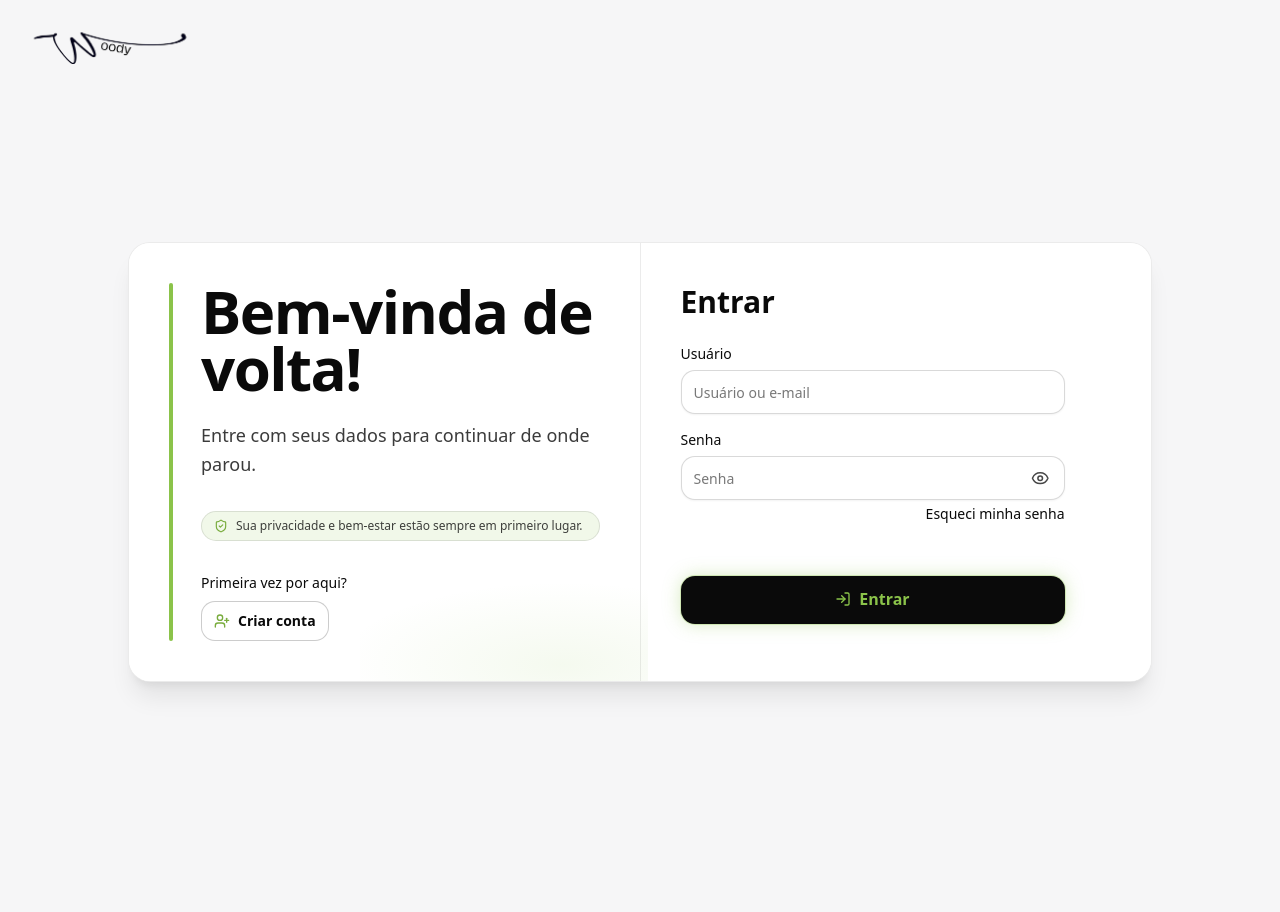
it: LoginPage › ACCOUNT_BANNED mostra aviso persistente sem redirecionar
The width and height of the screenshot is (1280, 912).
In the field labelled "Usuário": (872,392) [680,370,1064,414], type "banned"
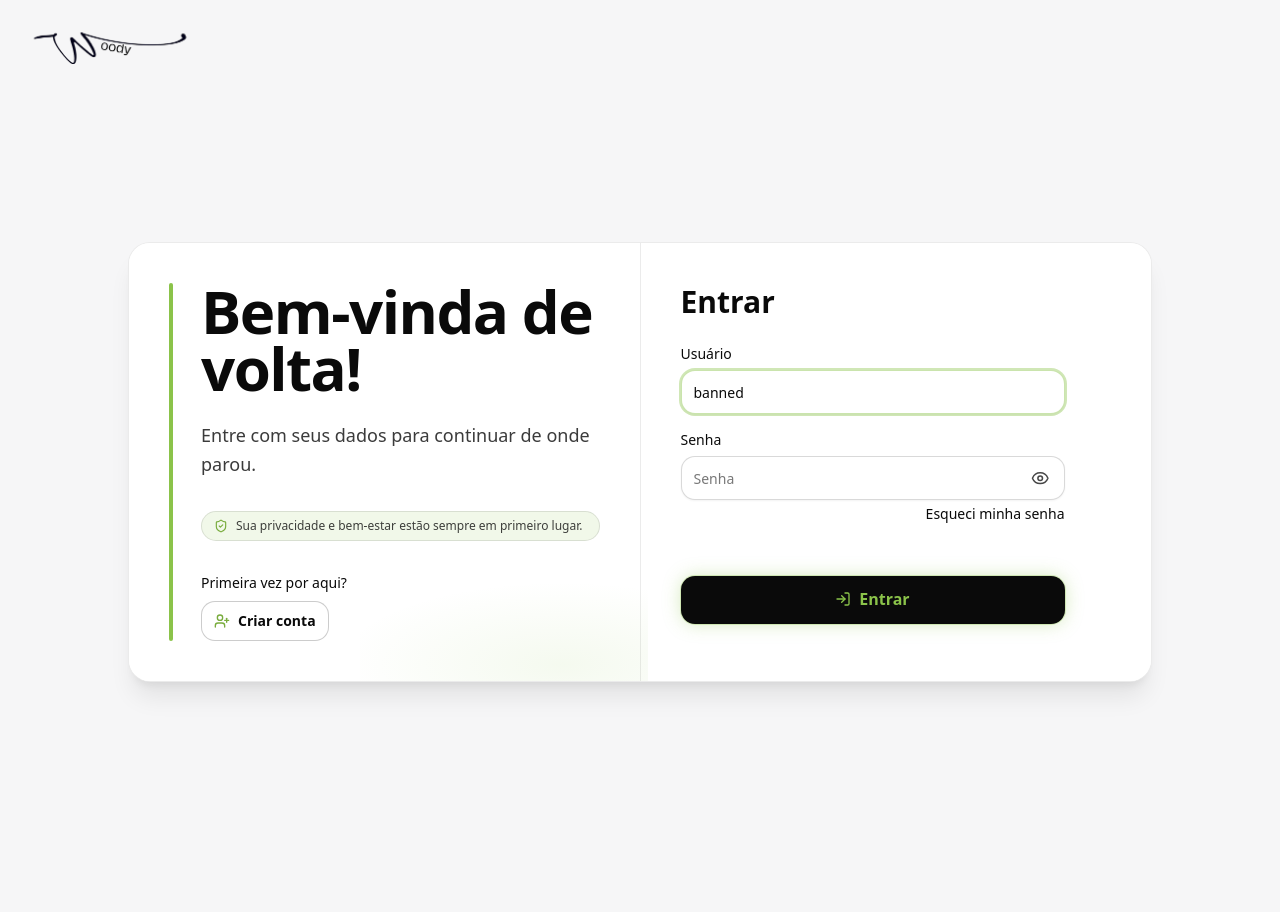
In the password field labelled "Senha": (872,478) [680,456,1064,500], type "secret1!"
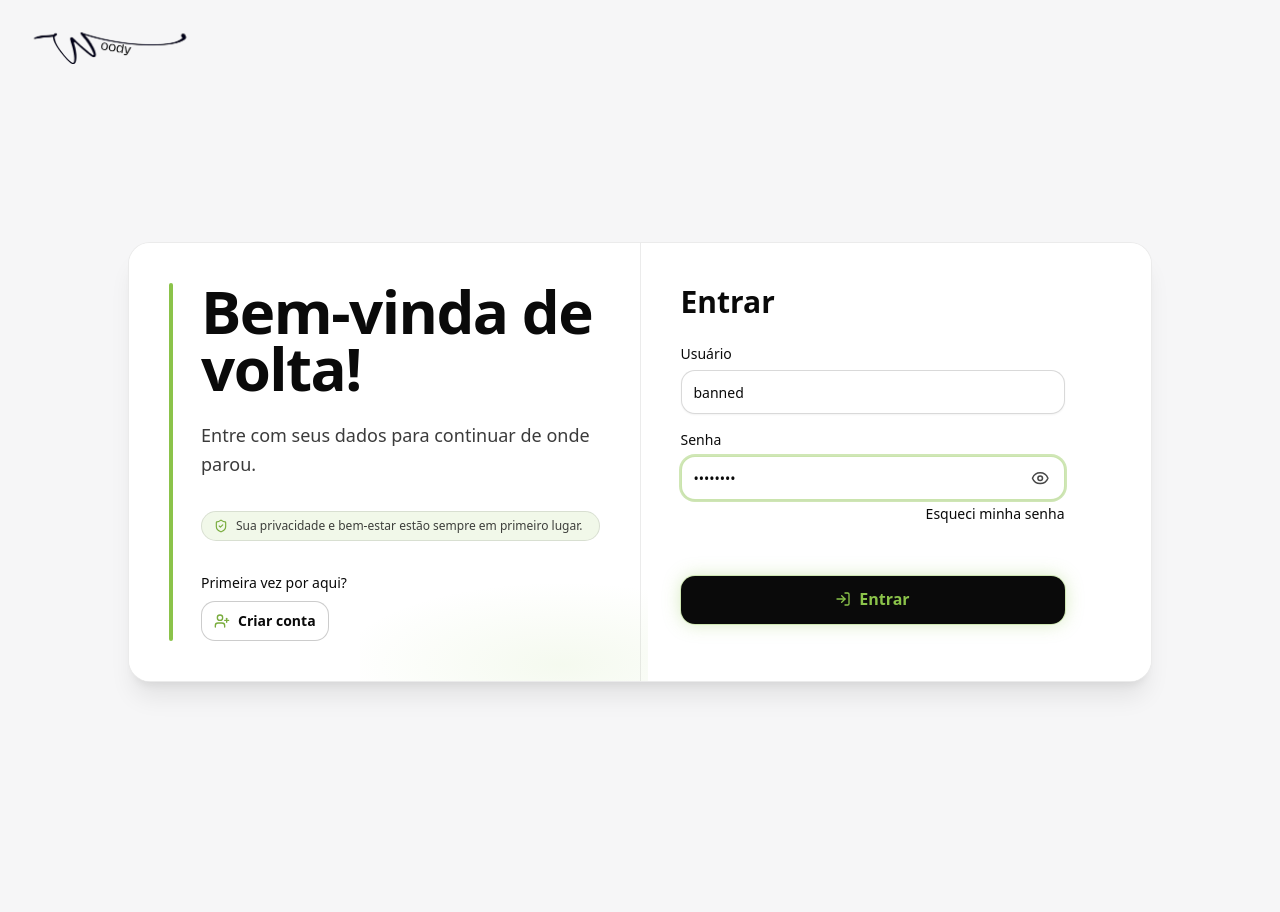
Click the button "Entrar": (872,600) [680,576,1064,624]
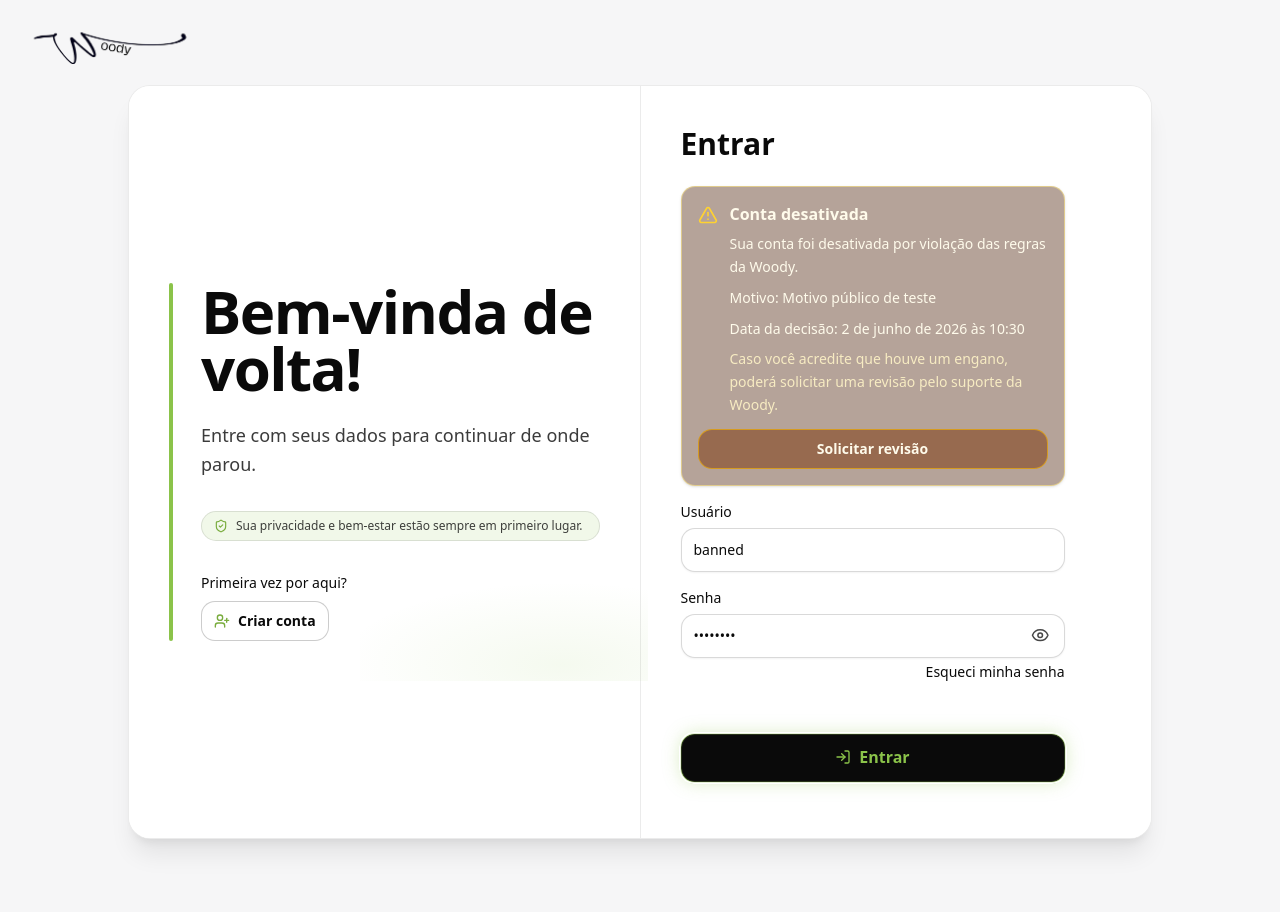
Expected: the heading "Conta desativada" is shown, [730,203,868,225]
Expected: the text "Motivo: Motivo público de teste" is shown, [730,288,936,307]
Expected: the text "Data da decisão:" is shown, [730,319,838,338]
